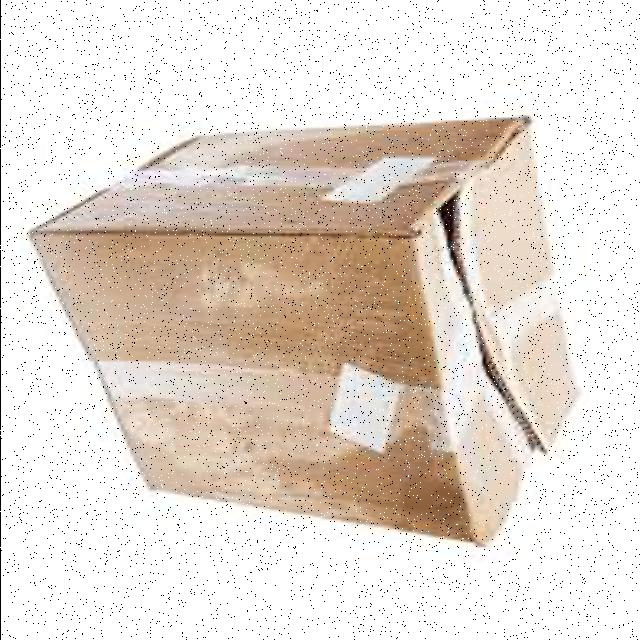defect: (28, 113, 581, 548)
